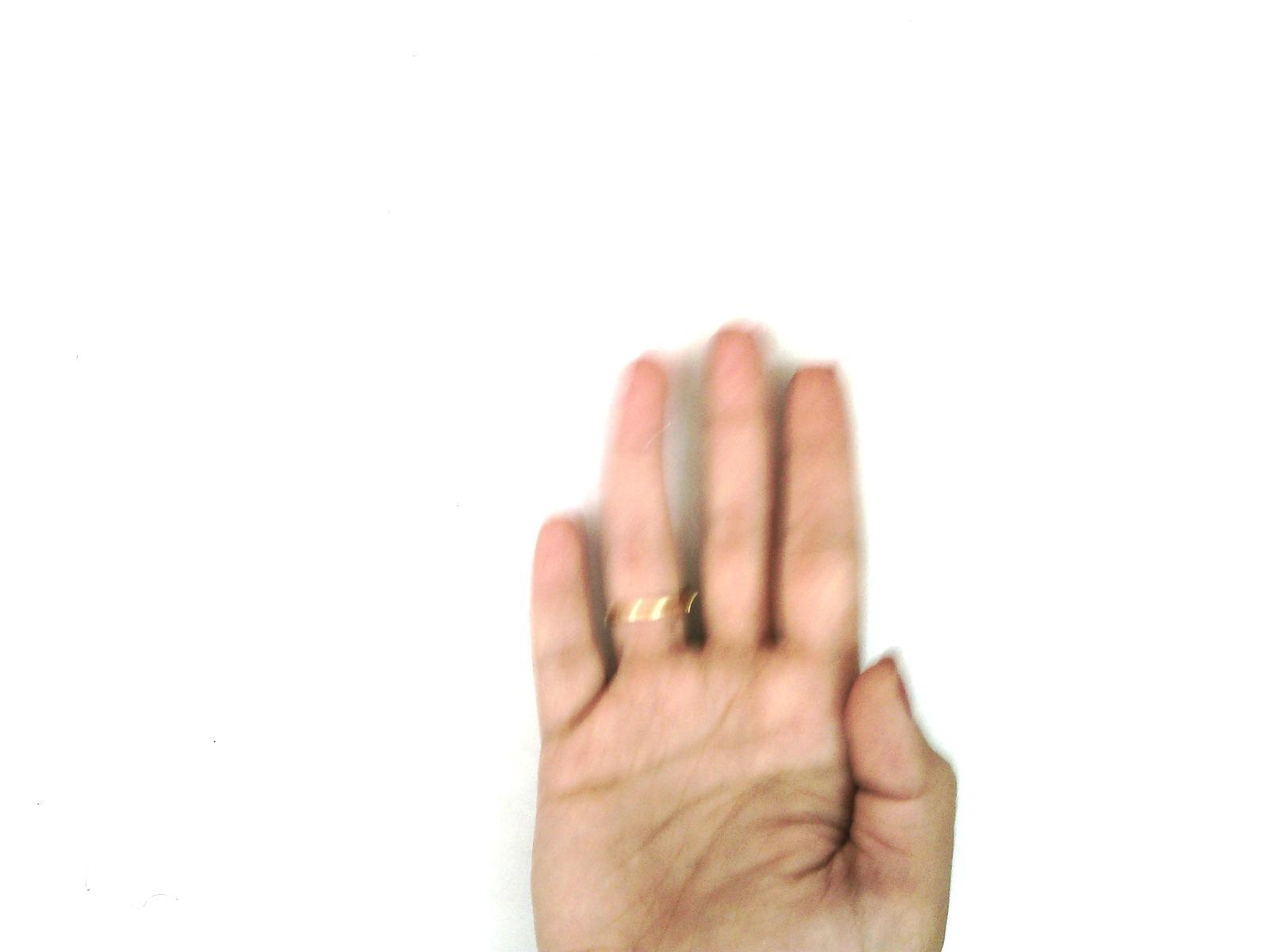open_palm: (524, 321, 961, 951)
